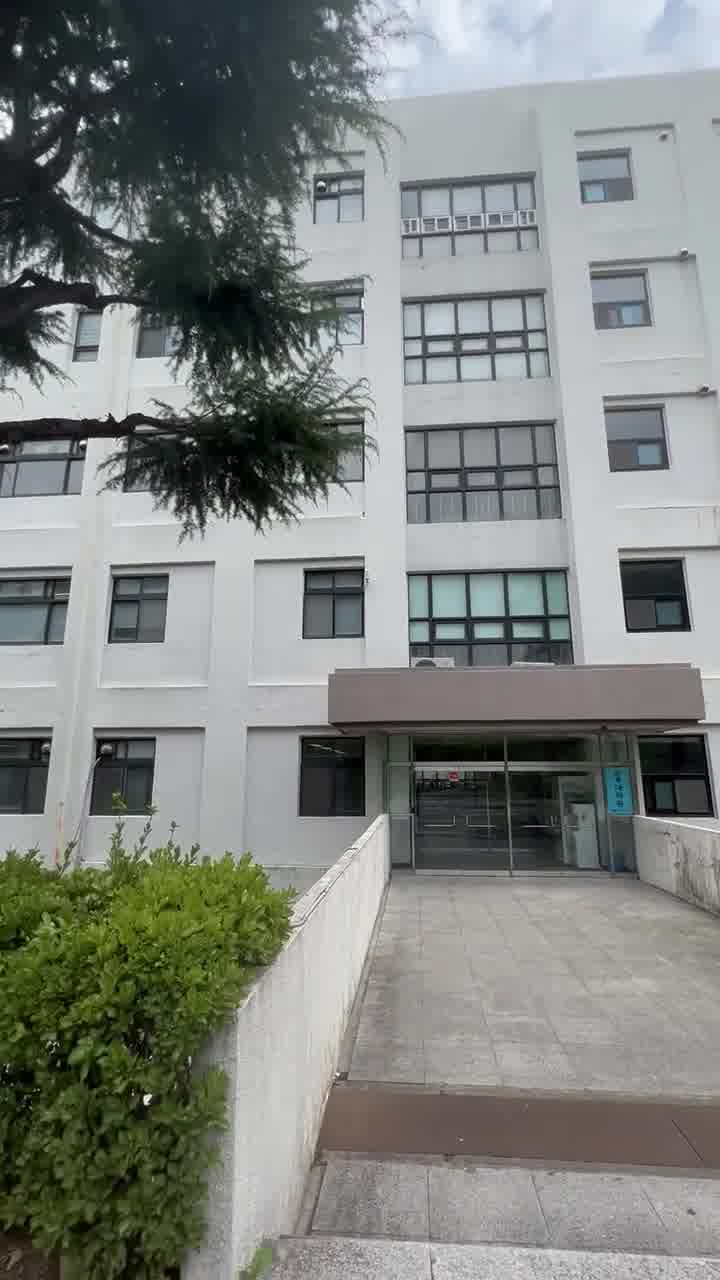low: (350, 132, 720, 908)
